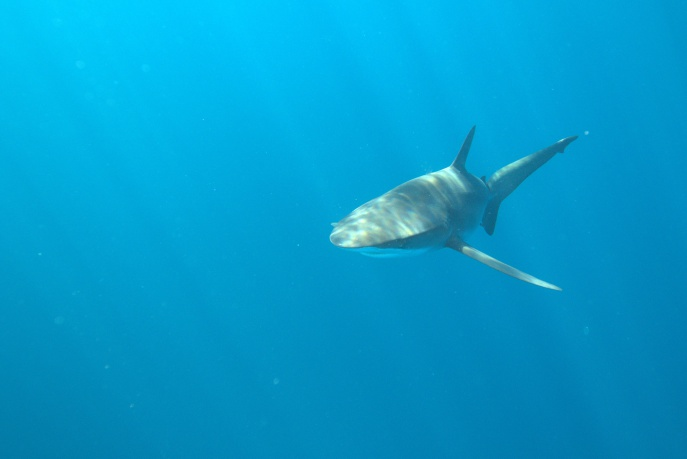Sedoso: (315, 113, 598, 293)
